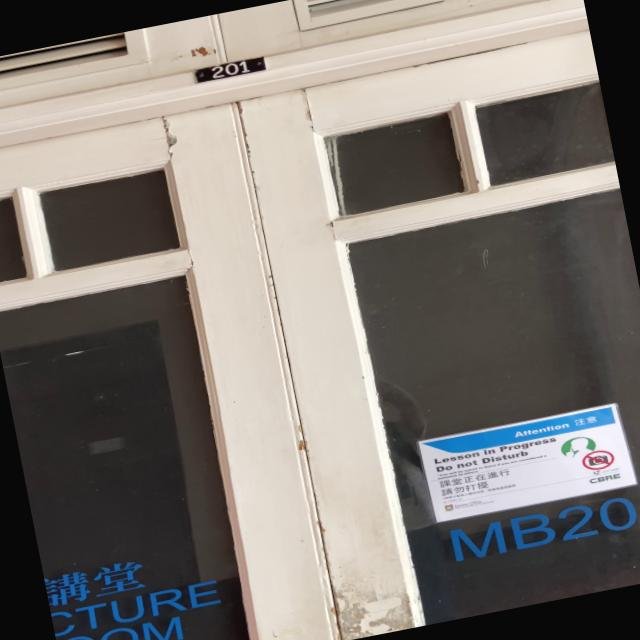room201: (188, 56, 270, 88)
room201Window: (439, 482, 640, 571)
